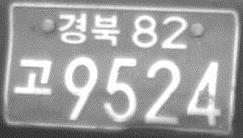2: (143, 58, 182, 126), (160, 15, 187, 51)
4: (185, 61, 221, 126)
5: (102, 55, 137, 123)
8: (131, 14, 158, 49)
9: (62, 54, 100, 122)
경북_O: (56, 12, 122, 47)
고: (12, 57, 54, 97)
